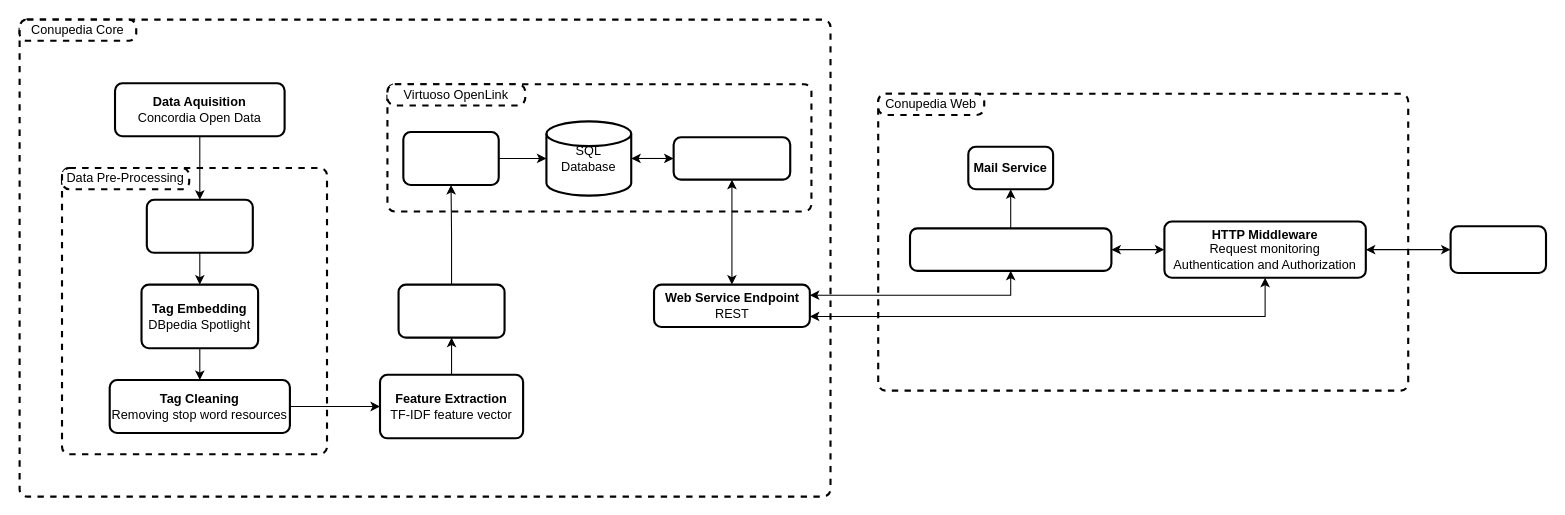
Image size: 1565x515. Some labels were removed from this diagram. The shapes that lost their labels are listed below. From the top down, each one's centre as x and y in pixels, then its label:
At [450,158]: "Deployment Conductor".
At [731,158]: "Service Endpoint SPARQL".
At [199,225]: "POS tagging DBpedia Spotlight".
At [1010,249]: "HTTP Server".
At [1498,249]: "Client".
At [451,310]: "Building Model RDF".
